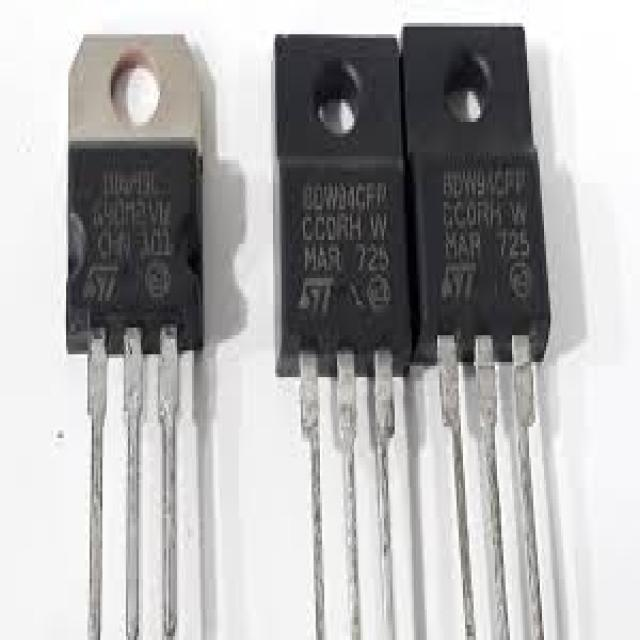Transistor: (408, 31, 551, 640), (276, 37, 408, 639), (71, 35, 198, 588)
